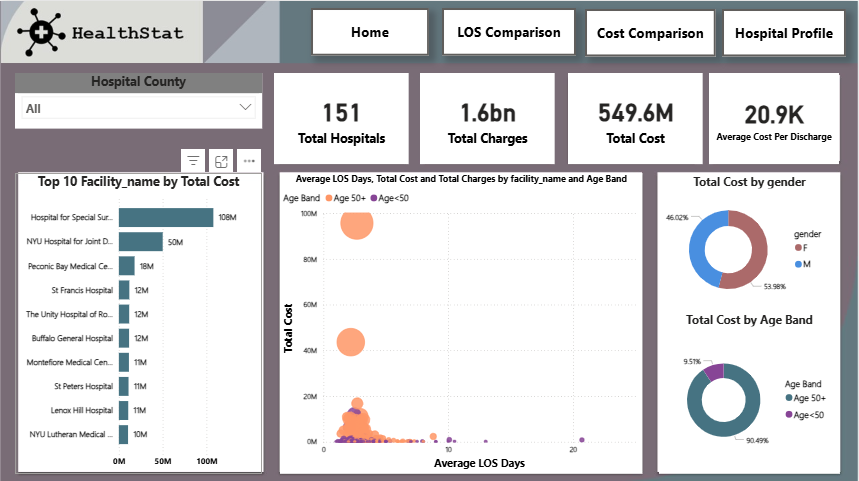

What the dashboard file says about the page in this screenshot:
{"tool":"powerbi","page":{"name":"Cost Comparison","canvas":[1280,720],"ordinal":2},"visuals":[{"type":"card","fields":{"Values":["_Measures.Total Cost"]},"box":[847.1,107.1,201.4,135.7],"z":0},{"type":"card","fields":{"Values":["_Measures.Total Charges"]},"box":[627.1,107.1,201.4,135.7],"z":1000},{"type":"card","fields":{"Values":["_Measures.Total Hospitals"]},"box":[408.6,107.1,201.4,135.7],"z":2000},{"type":"card","fields":{"Values":["_Measures.Average Cost Per Discharge"]},"box":[1058.6,107.1,194.3,135.7],"z":3000},{"type":"donutChart","fields":{"Category":["hip_replacement_discharges.gender"],"Y":["_Measures.Total Cost"]},"box":[982.9,257.1,270,205.7],"z":4000},{"type":"donutChart","fields":{"Category":["hip_replacement_discharges.Age Band"],"Y":["_Measures.Total Cost"]},"box":[982.9,462.9,270,242.9],"z":5000},{"type":"scatterChart","fields":{"Category":["hip_replacement_discharges.facility_name"],"X":["_Measures.Average LOS Days"],"Y":["_Measures.Total Cost"],"Series":["hip_replacement_discharges.Age Band"],"Size":["_Measures.Total Charges"]},"box":[418.6,257.1,541.4,448.6],"z":5001},{"type":"clusteredBarChart","title":"Top 10 Facility_name by Total Cost ","fields":{"Category":["hip_replacement_discharges.facility_name"],"Y":["_Measures.Total Cost"]},"box":[22.9,257.1,368.6,448.6],"z":5002},{"type":"slicer","title":"Hospital County","fields":{"Values":["hip_replacement_discharges.hospital_county"]},"box":[22.9,107.1,368.6,82.9],"z":5003},{"type":"actionButton","box":[660,10,200,71.2],"z":5004},{"type":"actionButton","box":[872.7,11.2,195.2,70.8],"z":5005},{"type":"actionButton","box":[1078,11.2,185.1,70.8],"z":5006},{"type":"actionButton","title":"Home","box":[463.8,10,176.2,71.2],"z":5007}]}

Visuals, with their boxes in screenshot pixels (x1, y1, x2, y2), scaled from the page's 1280x720 canvas onto the 859x481 screenshot:
card - _Measures.Total Cost: x1=568, y1=72, x2=704, y2=162
card - _Measures.Total Charges: x1=421, y1=72, x2=556, y2=162
card - _Measures.Total Hospitals: x1=274, y1=72, x2=409, y2=162
card - _Measures.Average Cost Per Discharge: x1=710, y1=72, x2=841, y2=162
donutChart - hip_replacement_discharges.gender x _Measures.Total Cost: x1=660, y1=172, x2=841, y2=309
donutChart - hip_replacement_discharges.Age Band x _Measures.Total Cost: x1=660, y1=309, x2=841, y2=472
scatterChart - hip_replacement_discharges.facility_name x _Measures.Average LOS Days: x1=281, y1=172, x2=644, y2=471
"Top 10 Facility_name by Total Cost " clusteredBarChart: x1=15, y1=172, x2=263, y2=471
"Hospital County" slicer: x1=15, y1=72, x2=263, y2=127
actionButton: x1=443, y1=7, x2=577, y2=54
actionButton: x1=586, y1=7, x2=717, y2=55
actionButton: x1=723, y1=7, x2=848, y2=55
"Home" actionButton: x1=311, y1=7, x2=430, y2=54
